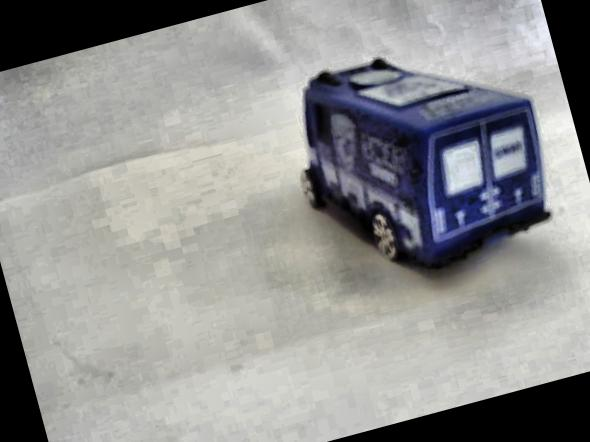police car: (272, 13, 570, 302)
